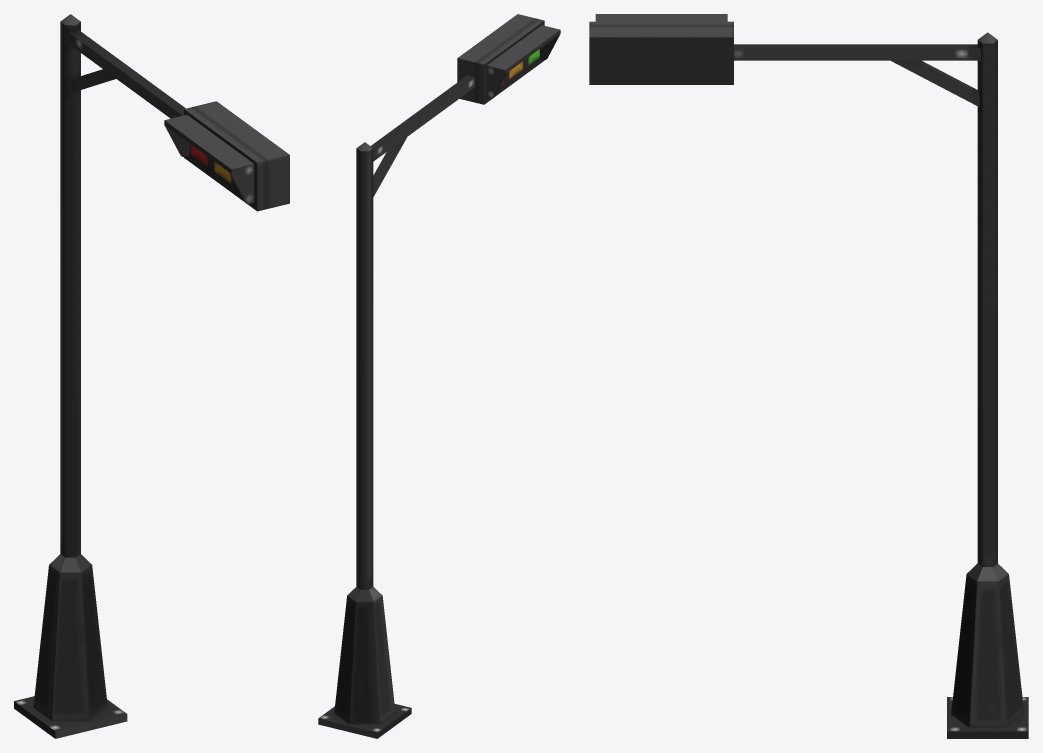
File: Street_Light_001_F.FBX
3 views of the same model, side by side, from view 1: azimuth 30°, elevation 25°; view 2: azimuth 150°, elevation 25°; view 3: azimuth 270°, elevation 25° (orthographic). The views are drawn at different scales.
Visible parts, largest first — view 1: Street_Light_001_F; view 2: Street_Light_001_F; view 3: Street_Light_001_F.
Part boxes in pixels (x1,y1,x2,y2): Street_Light_001_F: (14, 14, 289, 738); Street_Light_001_F: (318, 14, 560, 738); Street_Light_001_F: (589, 14, 1028, 738).
Size of the model in its own units: 31.05 by 162 by 281.
